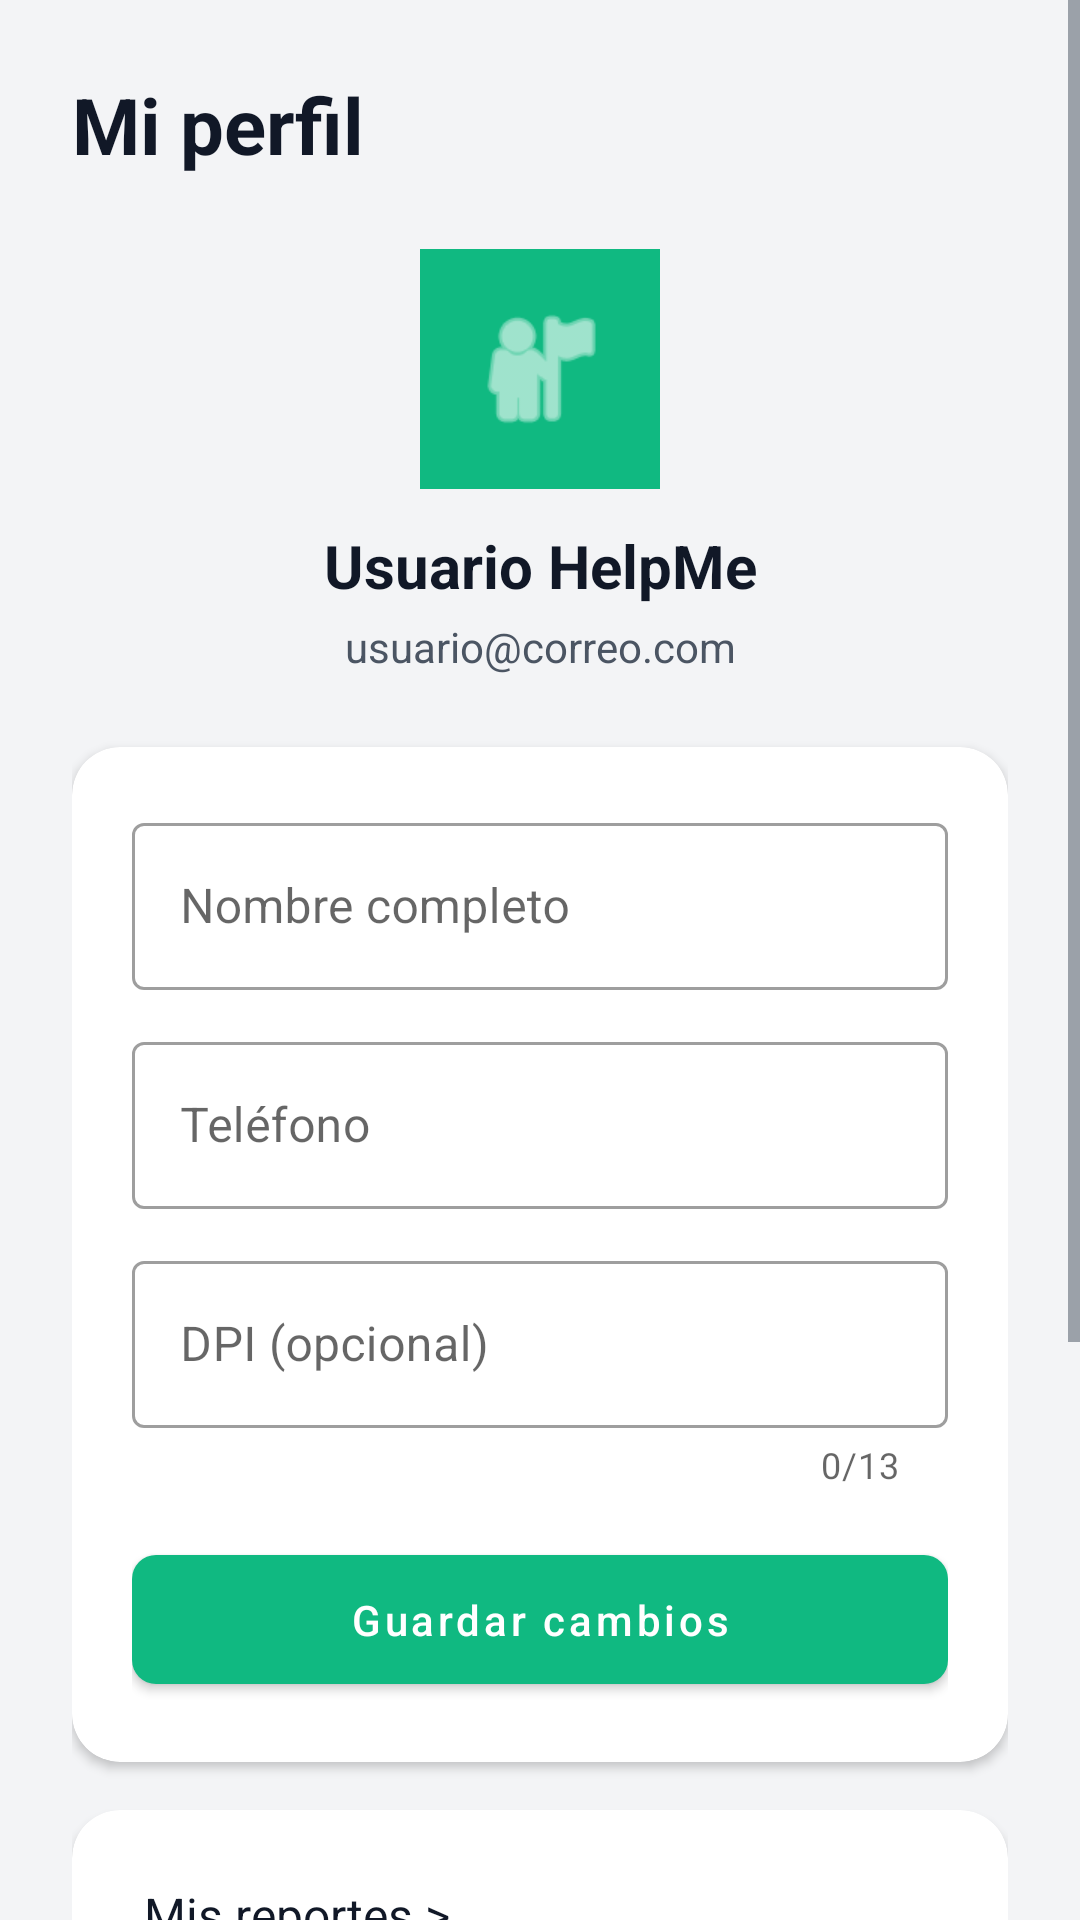

Icons on this 1080px x 1920px Android screen, each with its box as (x1=x1, y1=y1, x2=x2, y2=y2):
myplaces: (x1=487, y1=315, x2=596, y2=423)
